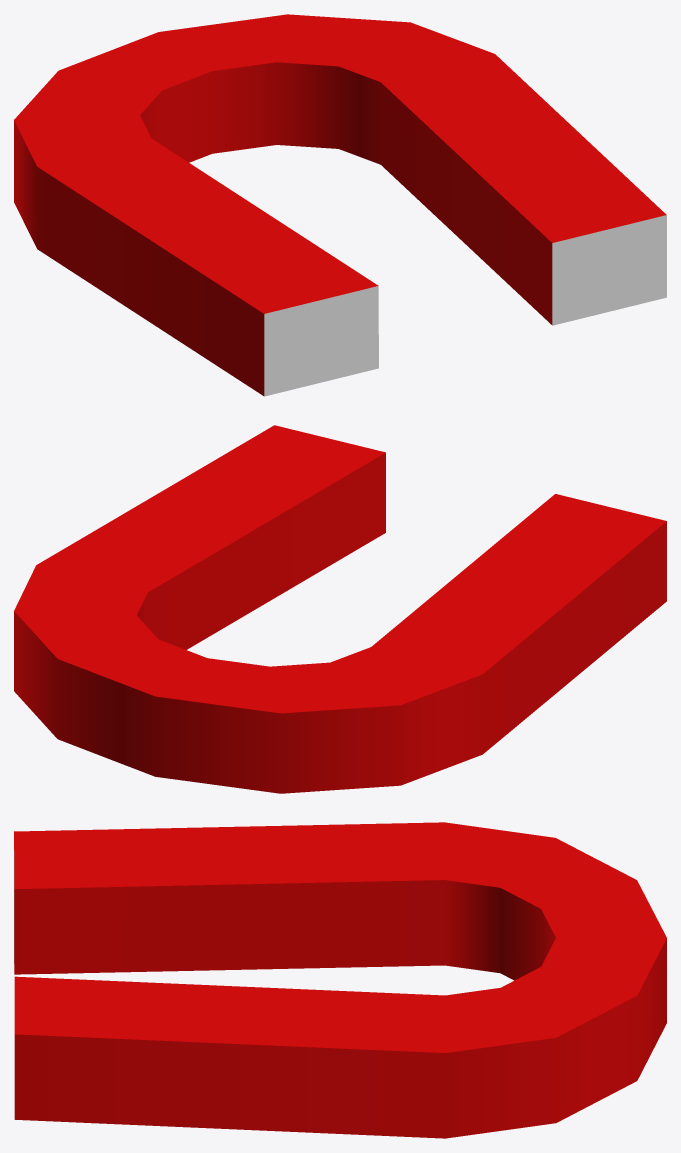
File: Magnet.fbx
The picture shows the model from 3 angles, top to bottom: view 1: azimuth 30°, elevation 25°; view 2: azimuth 150°, elevation 25°; view 3: azimuth 270°, elevation 25°; orthographic projection. The views are drawn at different scales.
Visible parts, largest first — view 1: magnet; view 2: magnet; view 3: magnet.
Boxes of the visible parts, box(x1,y1,x2,y2) form: magnet: box(14, 14, 666, 396); magnet: box(14, 425, 666, 793); magnet: box(14, 822, 666, 1138).
Size of the model in its own units: 2.38 by 0.4137 by 2.83.
